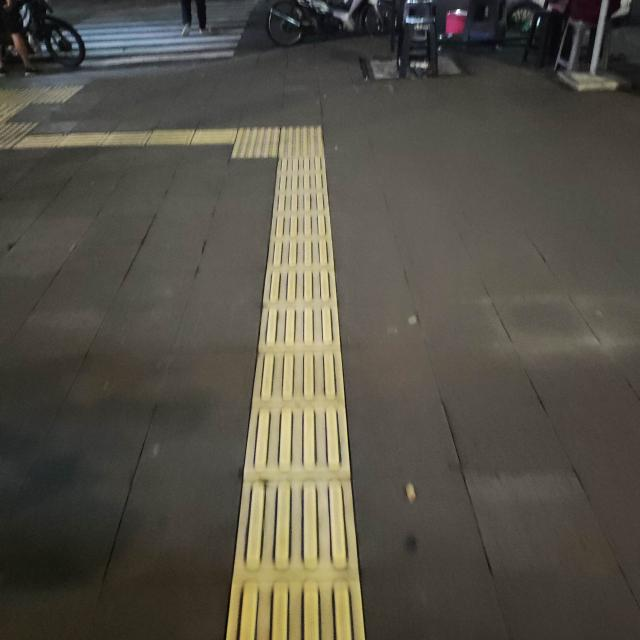kiri: (166, 104, 359, 184)
